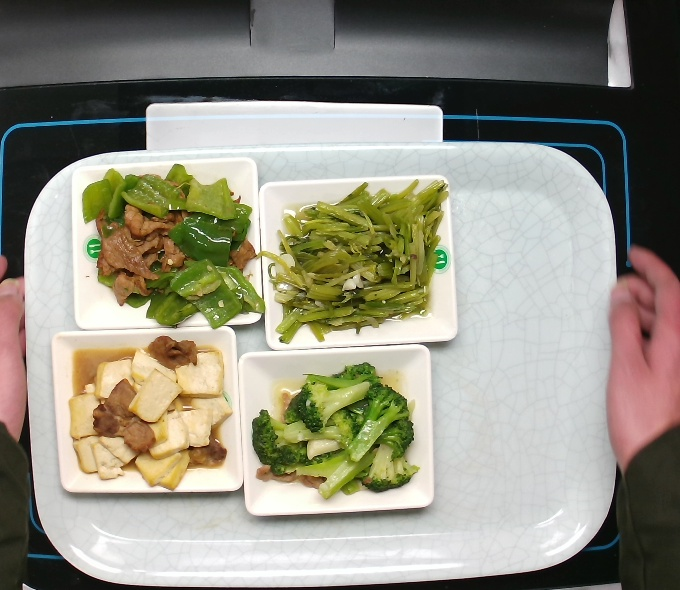wcq-DouFuRouPian: (63, 333, 229, 497)
wcq-QinCai: (259, 183, 467, 341)
wcq-QingJiaoChaoRou: (78, 166, 263, 331)
wcq-XiLanHua: (236, 358, 432, 497)
